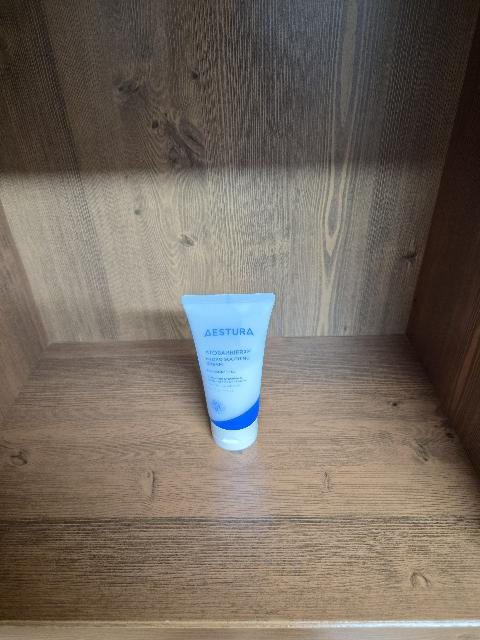handcream: (181, 293, 275, 451)
